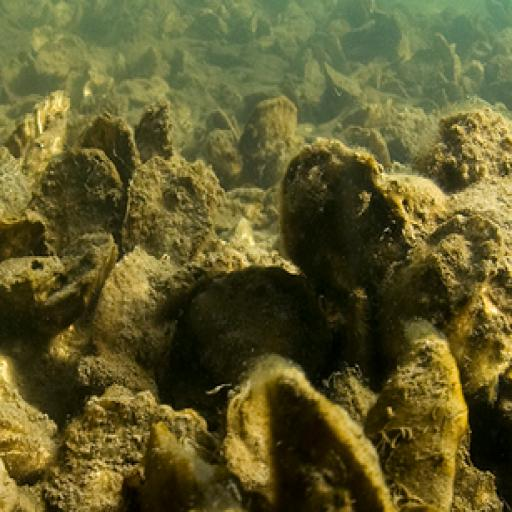Oyster-Closed: (283, 143, 414, 307), (376, 215, 504, 379), (267, 370, 401, 512), (368, 335, 467, 512), (124, 165, 217, 267), (140, 428, 247, 512), (244, 102, 298, 160)
Oyster-Open: (183, 269, 333, 388)
